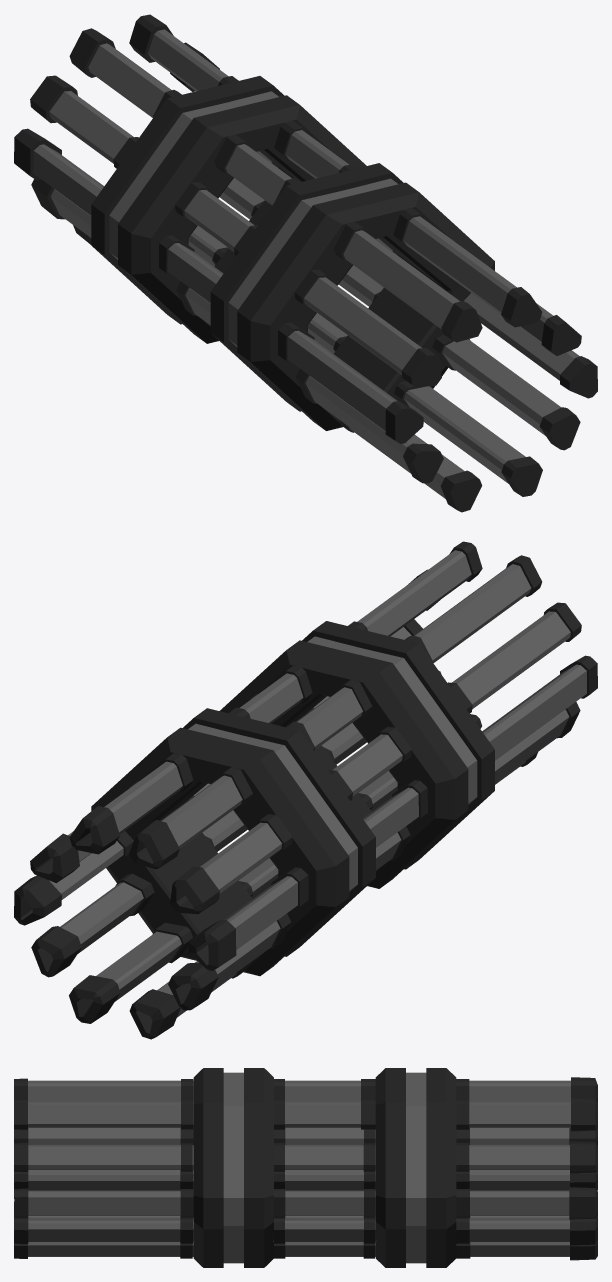
Rendered from SG_78 Remake_Baraban.fbx.
3 views of the same model, one above another, from view 1: azimuth 30°, elevation 25°; view 2: azimuth 150°, elevation 25°; view 3: azimuth 270°, elevation 25° (orthographic). The views are drawn at different scales.
Visible parts, largest first — view 1: Cube.001; view 2: Cube.001; view 3: Cube.001.
Part boxes in pixels (box(x1,y1,x2,y2)): Cube.001: box(14, 14, 597, 512); Cube.001: box(14, 541, 597, 1039); Cube.001: box(14, 1068, 597, 1267).
Size of the model in its own units: 0.385 by 0.3255 by 1.04.
Materials: 1 (1 with a texture image).
